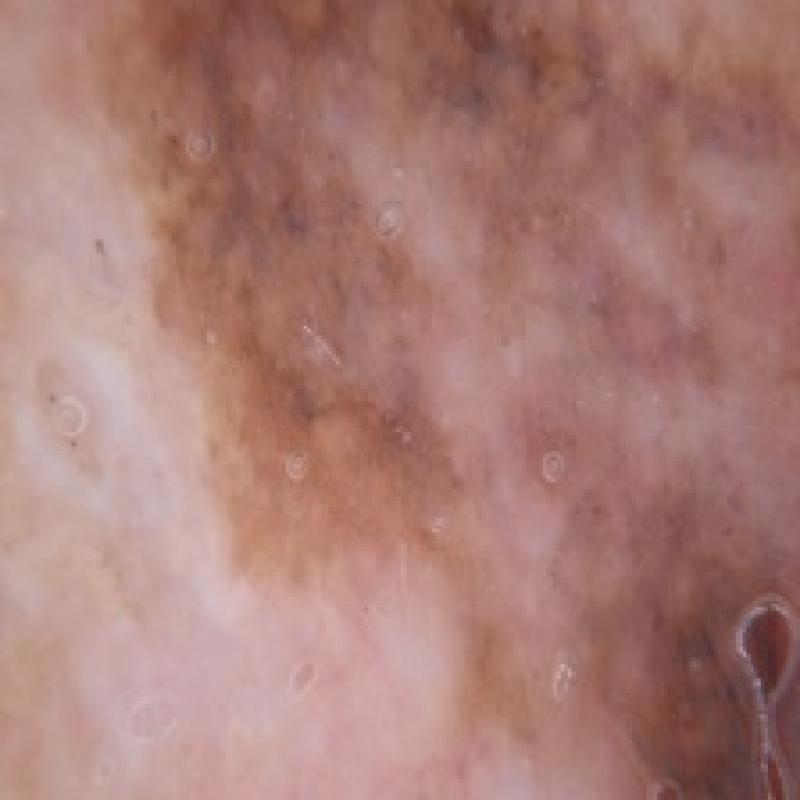malignant: (89, 10, 796, 800)
